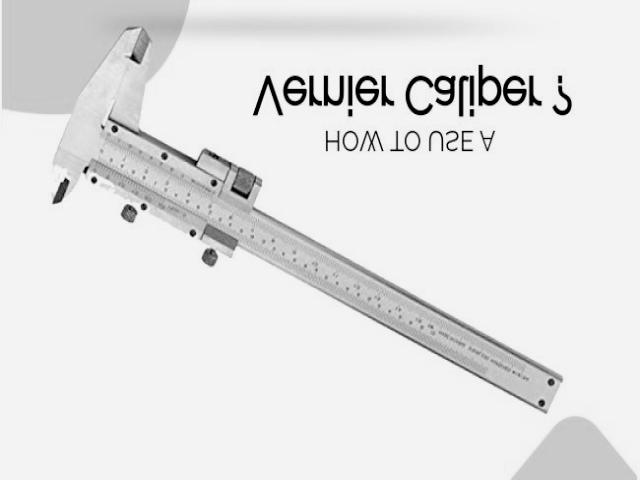Calipers: (54, 28, 562, 413)
